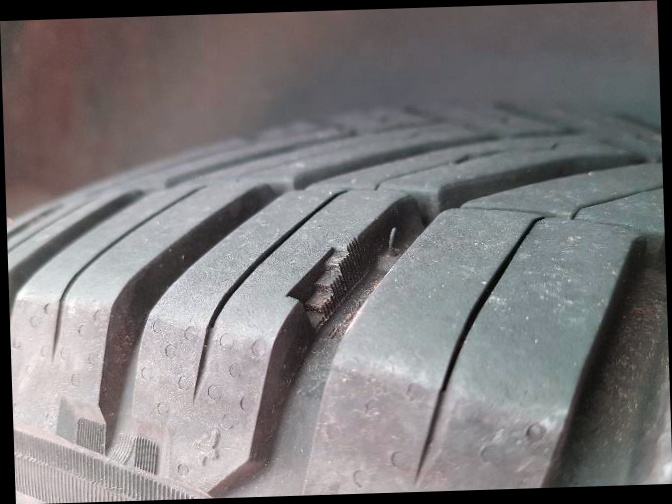temoin:90: (276, 231, 378, 340)
